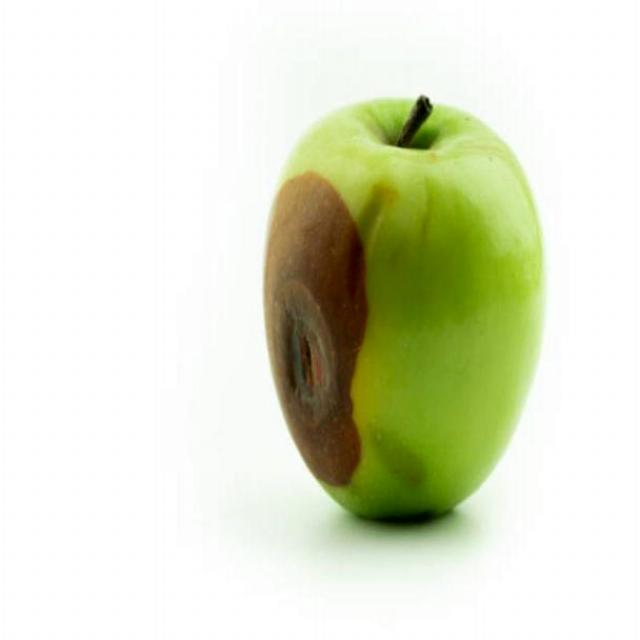ROT: (256, 74, 559, 534)
